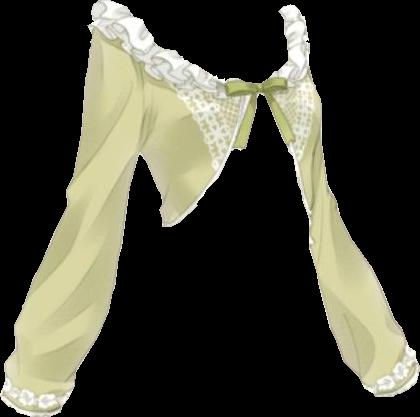Bodice: (87, 0, 321, 226)
Neckline: (115, 2, 291, 85)
Sleeve: (0, 32, 141, 416)
Sleeveline: (91, 31, 144, 124)
Waistline: (161, 92, 263, 227), (260, 91, 312, 213)
